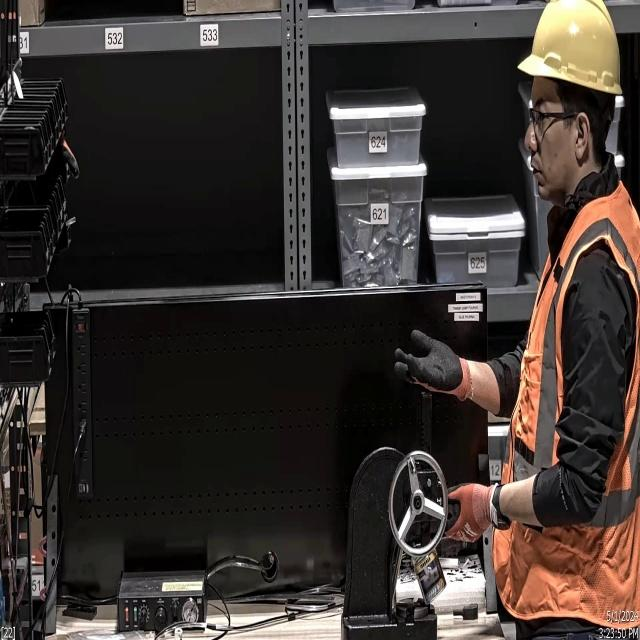construction-gloves: (392, 328, 482, 405), (440, 474, 512, 546)
